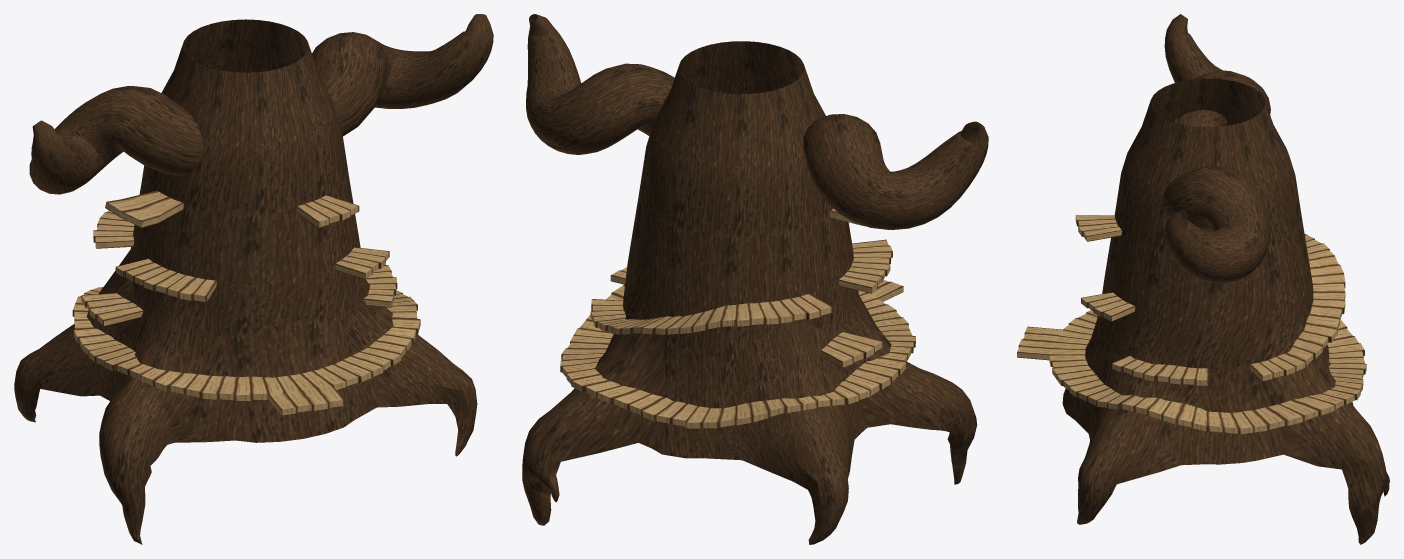
The model's file is SM_world_1_tree_trunk.fbx.
3 views of the same model, side by side, from view 1: azimuth 30°, elevation 25°; view 2: azimuth 150°, elevation 25°; view 3: azimuth 270°, elevation 25° (orthographic). The views are drawn at different scales.
Visible parts, largest first — view 1: Trunk; view 2: Trunk; view 3: Trunk.
Part boxes in pixels (x1,y1,x2,y2): Trunk: [14, 14, 493, 544]; Trunk: [522, 14, 988, 544]; Trunk: [1017, 14, 1389, 544].
Bounding box in the file's own units: 160 × 123 × 142.
